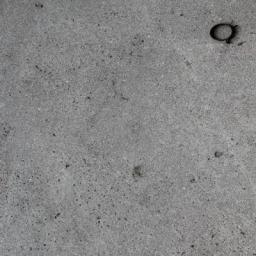FOD: (208, 21, 242, 49)
